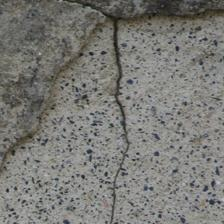Crack: (52, 0, 197, 116), (84, 189, 224, 215), (77, 0, 104, 67)
